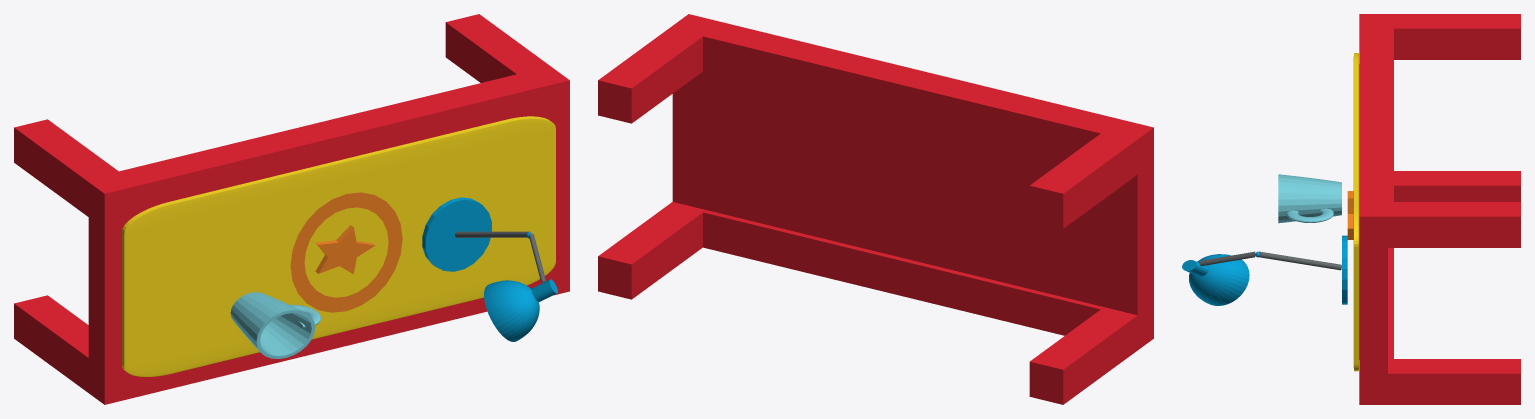
Rendered from tinker.obj.
3 views of the same model, side by side, from view 1: azimuth 30°, elevation 25°; view 2: azimuth 150°, elevation 25°; view 3: azimuth 270°, elevation 25° (orthographic). The views are drawn at different scales.
Parts seen in each view (by area): view 1: group_0_16768282, group_0_15277357, group_0_40919, group_0_16089887, group_0_7720667, group_0_6383466; view 2: group_0_15277357; view 3: group_0_15277357, group_0_40919, group_0_7720667, group_0_16768282, group_0_6383466, group_0_16089887.
Boxes of the visible parts, x1,y1,x2,y2 form: group_0_16768282: [122, 116, 555, 376]; group_0_15277357: [14, 14, 569, 404]; group_0_40919: [422, 197, 557, 341]; group_0_16089887: [290, 192, 402, 312]; group_0_7720667: [230, 292, 321, 358]; group_0_6383466: [455, 231, 545, 283]; group_0_15277357: [598, 14, 1153, 404]; group_0_15277357: [1359, 14, 1520, 404]; group_0_40919: [1182, 235, 1347, 305]; group_0_7720667: [1278, 174, 1341, 223]; group_0_16768282: [1353, 53, 1359, 371]; group_0_6383466: [1199, 251, 1341, 270]; group_0_16089887: [1347, 191, 1353, 239].
Bounding box in the file's own units: 83 × 36 × 58.69.
